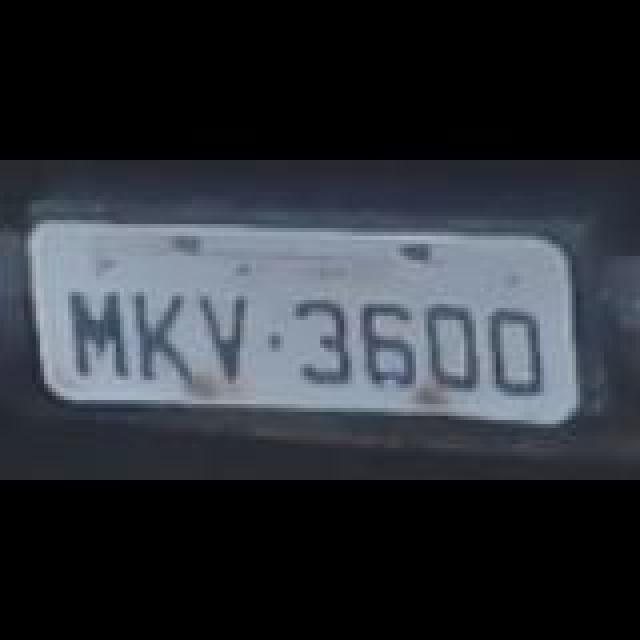3: (292, 300, 356, 388)
6: (356, 300, 420, 388)
D: (484, 306, 548, 398), (426, 304, 486, 392)
K: (128, 290, 200, 382)
M: (66, 290, 134, 382)
V: (198, 292, 258, 380)
